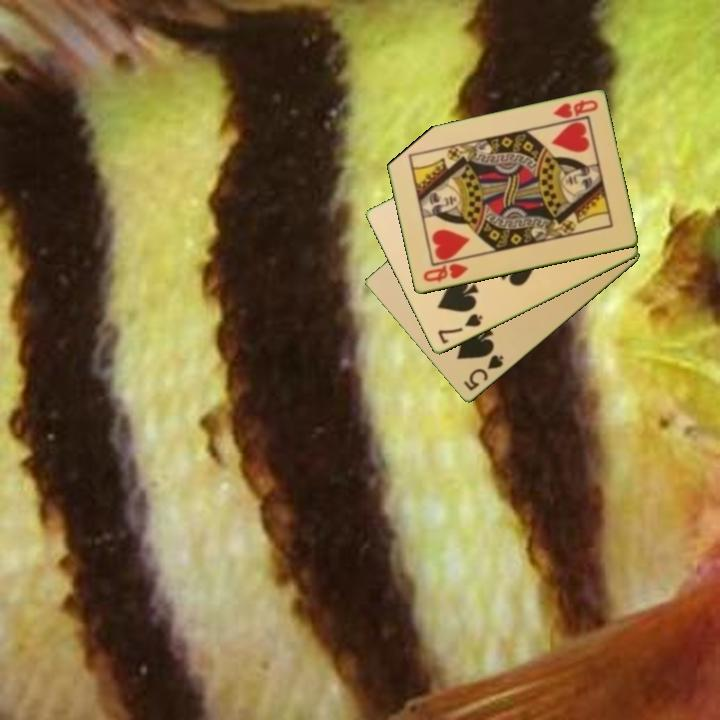5s: (460, 351, 506, 394)
7s: (434, 310, 486, 347)
Qh: (419, 260, 471, 286), (549, 97, 601, 122)
